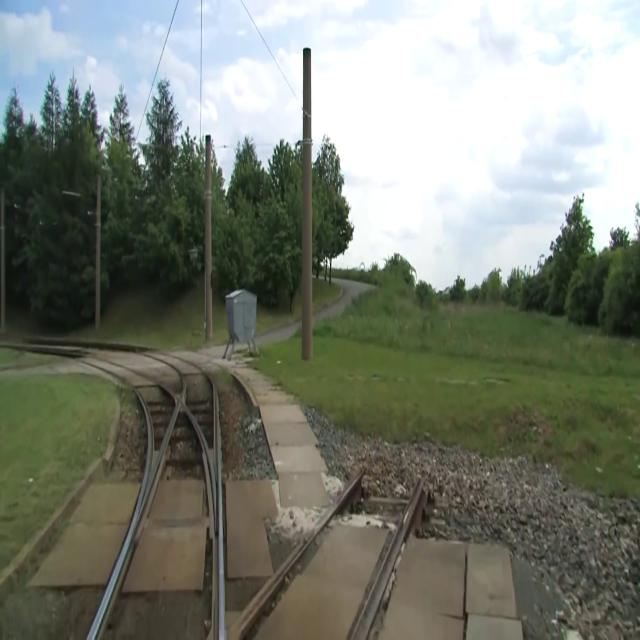rail-track: (235, 471, 420, 639), (94, 408, 213, 639), (80, 357, 175, 463), (175, 361, 214, 468)
